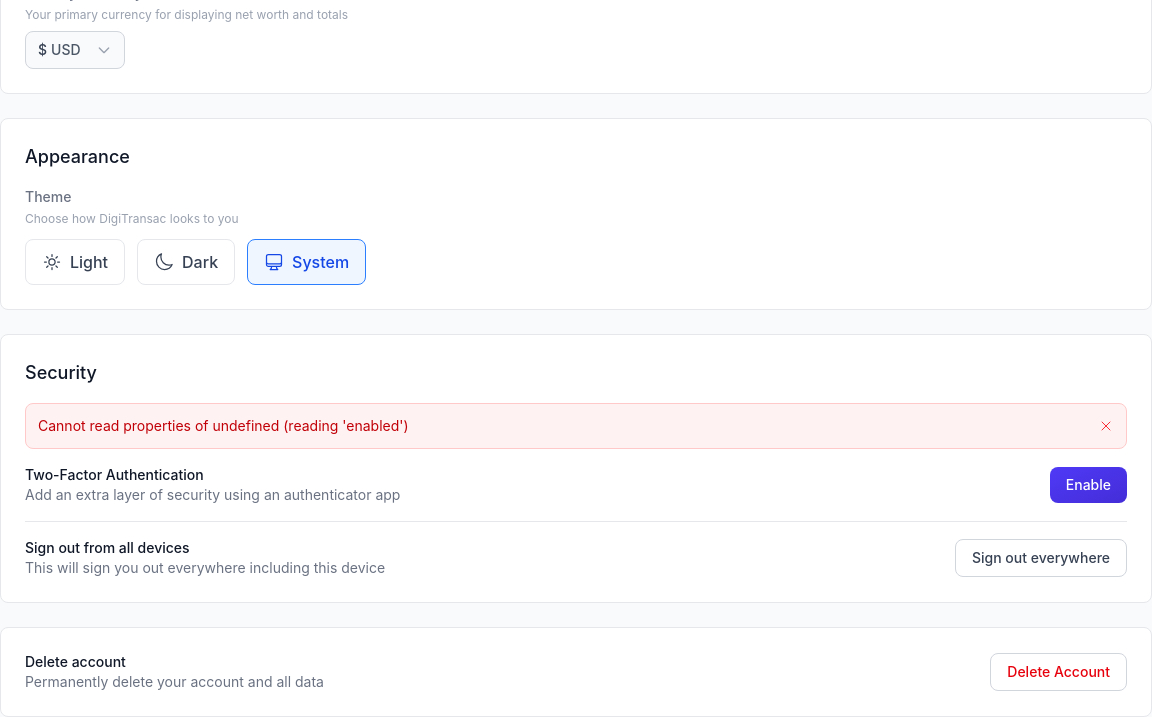
Test: SettingsPage › should show error when trying to delete without password
This screenshot has width=1152, height=717.
(page scrolled)
Click the button "Delete Account": x=1059, y=672 [990,653,1127,691]
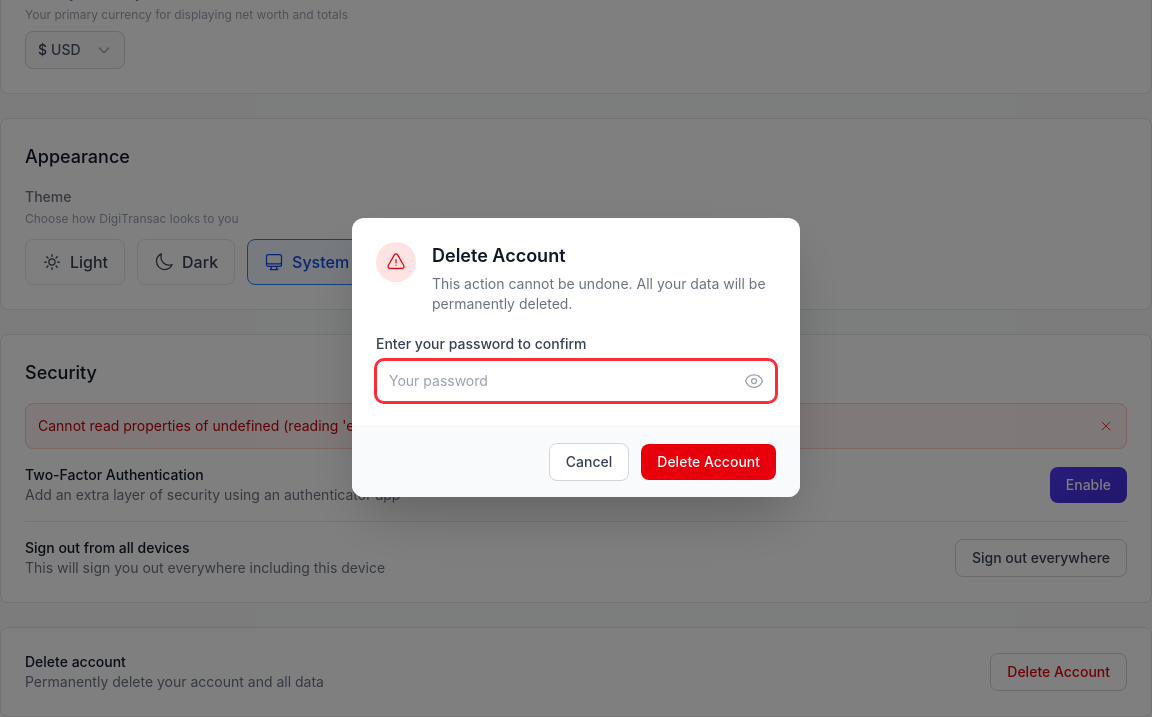
# Click the modal's delete button (second one)
Click the button "Delete Account": x=709, y=462 [641,444,776,480]
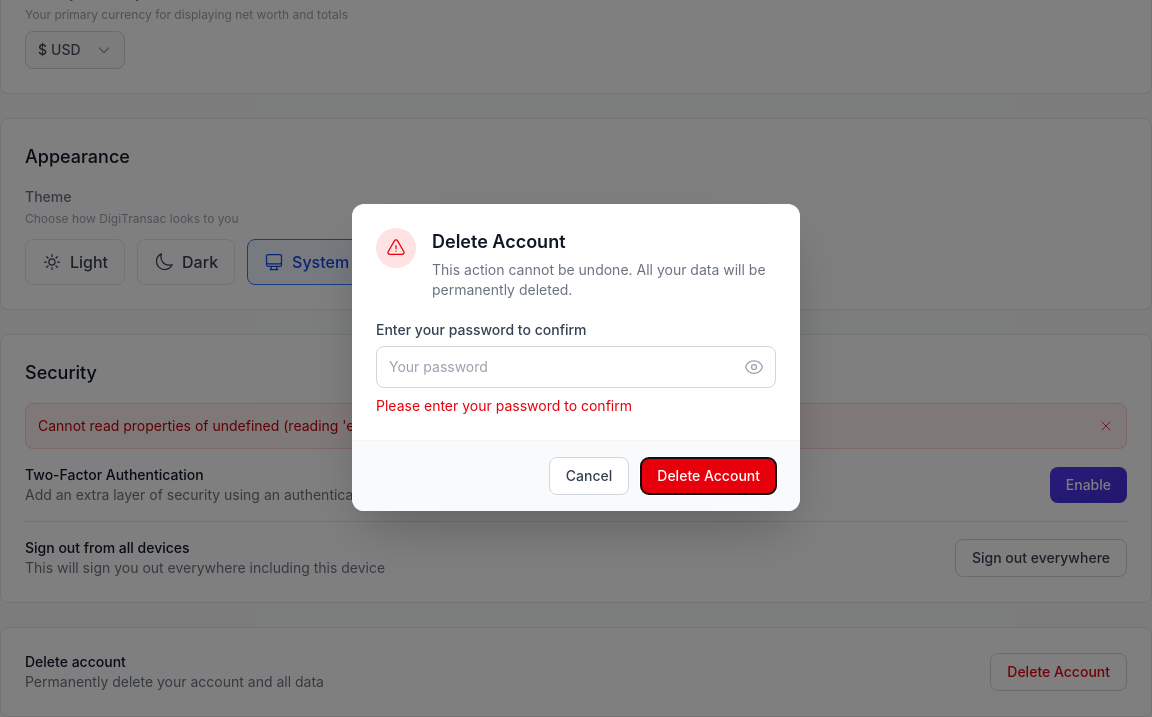
Check: the text "Please enter your password to confirm" is shown, box [376,396,632,414]
